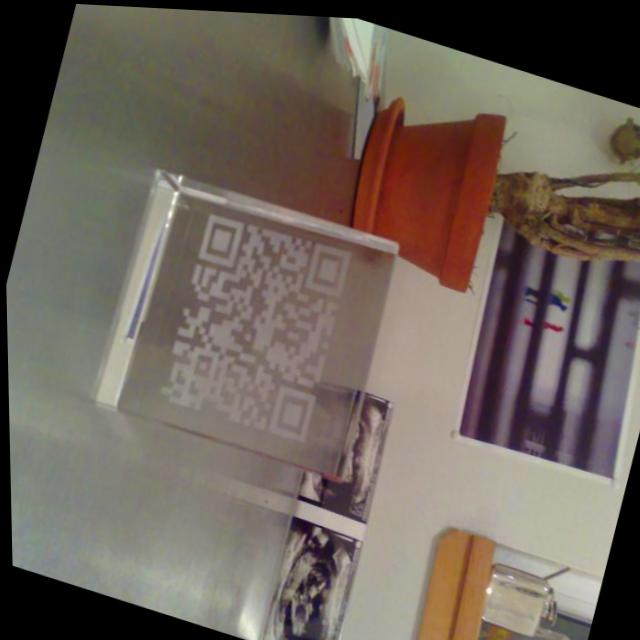qrcode: (153, 202, 354, 444)
